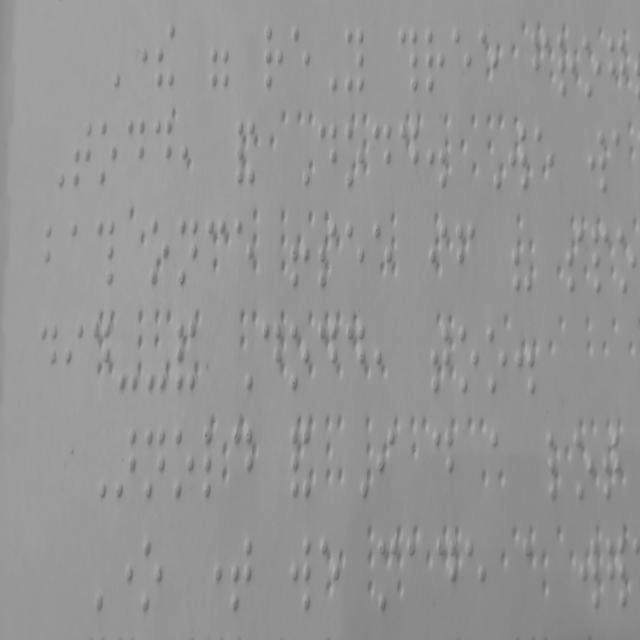braiile: (228, 412, 255, 510), (228, 526, 255, 622), (406, 526, 431, 624), (487, 418, 513, 509), (434, 528, 460, 618), (200, 418, 227, 504), (289, 530, 313, 626), (430, 420, 455, 510), (318, 532, 343, 622), (456, 310, 480, 403), (314, 313, 340, 398), (376, 523, 400, 615), (577, 526, 601, 618), (148, 210, 173, 298), (544, 422, 570, 506), (138, 534, 164, 618), (464, 530, 488, 621), (599, 421, 625, 504), (88, 317, 112, 406), (368, 219, 394, 301), (259, 314, 283, 402), (615, 219, 640, 302), (342, 315, 367, 398), (63, 316, 86, 406), (532, 114, 556, 200), (233, 214, 256, 302), (429, 314, 452, 402), (40, 214, 65, 294), (38, 317, 61, 402), (176, 214, 200, 295), (206, 214, 228, 302), (554, 26, 578, 106), (68, 214, 92, 294), (172, 420, 196, 500), (508, 114, 530, 201), (484, 314, 506, 401), (584, 127, 610, 200), (580, 27, 604, 106), (428, 218, 451, 300), (454, 216, 477, 298), (342, 25, 368, 97), (587, 220, 611, 298), (288, 313, 310, 398), (476, 18, 499, 98), (316, 216, 339, 296), (450, 17, 472, 100), (152, 111, 174, 193), (572, 424, 594, 506), (424, 18, 446, 99), (343, 218, 365, 298), (145, 422, 167, 502), (371, 118, 394, 194), (73, 111, 94, 193), (316, 118, 338, 196), (262, 20, 284, 97), (530, 24, 552, 100), (398, 118, 419, 196), (125, 114, 146, 190), (345, 120, 367, 192), (292, 22, 312, 100), (608, 30, 628, 106), (566, 219, 585, 295), (98, 118, 118, 188)
